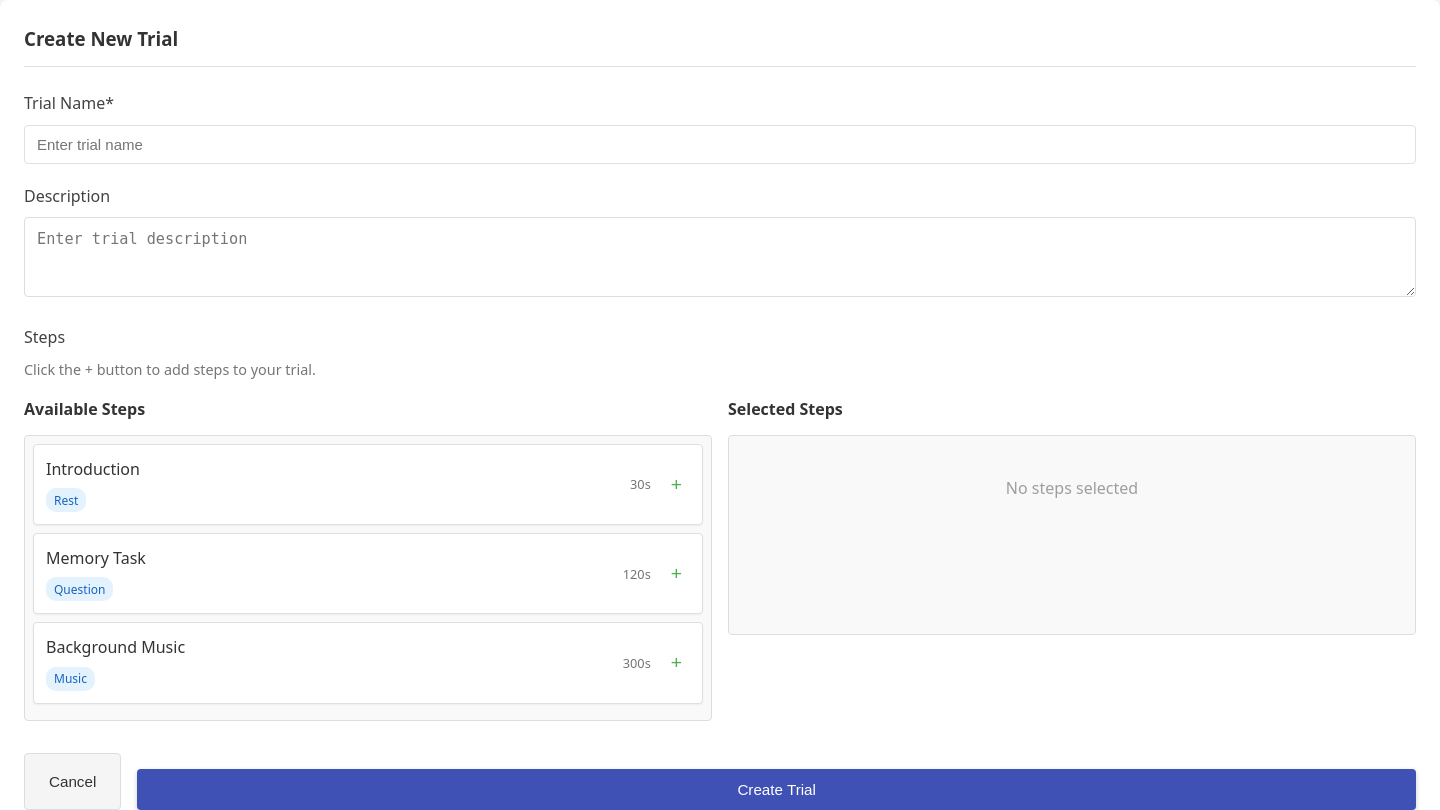
Test case: TrialForm Component › Step Management › does not show up/down buttons for single step
Add one step
Click the button "+" in the row of "Introduction" at (676, 484), box [663, 474, 690, 496]
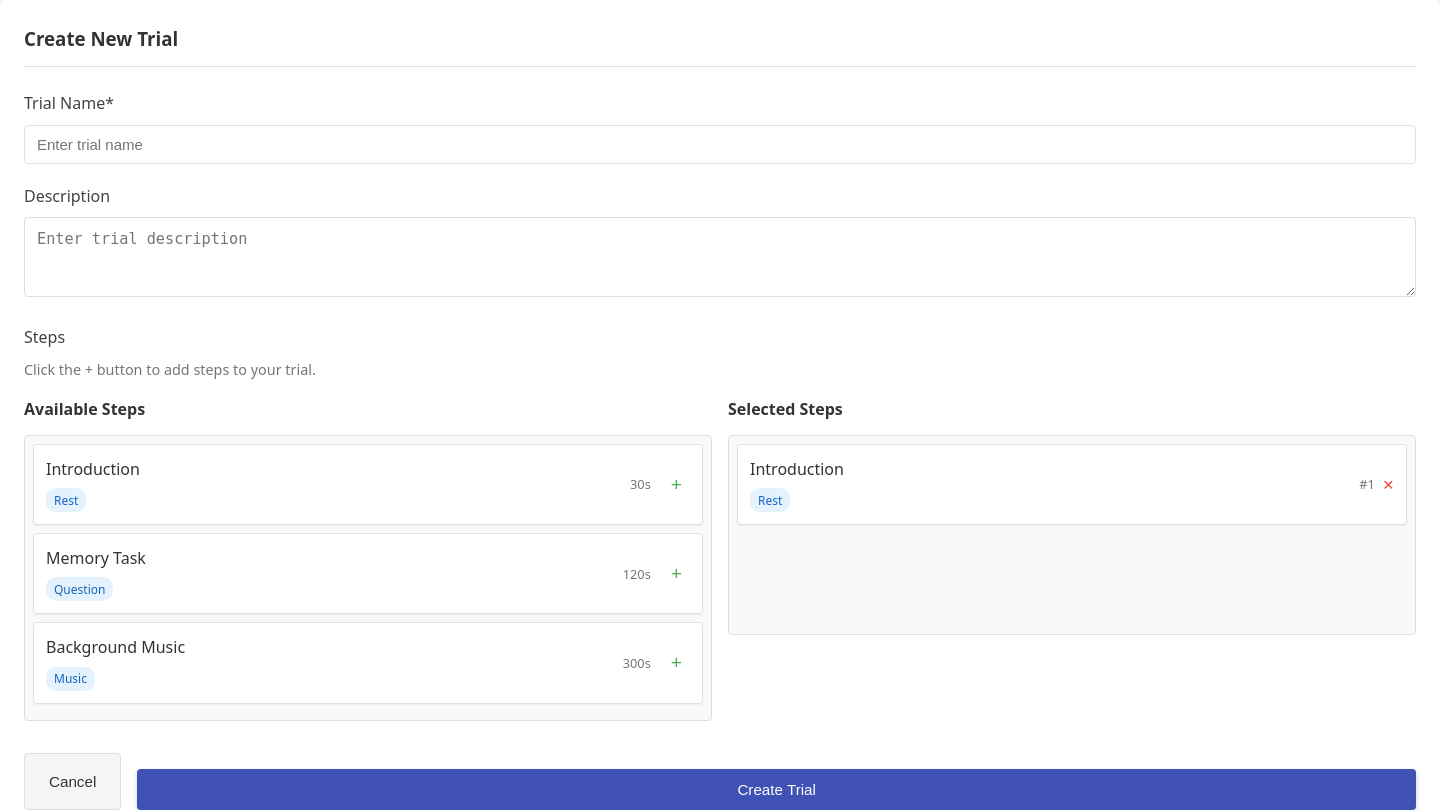
expect the text "#1" is shown: met, box [1359, 474, 1375, 495]
